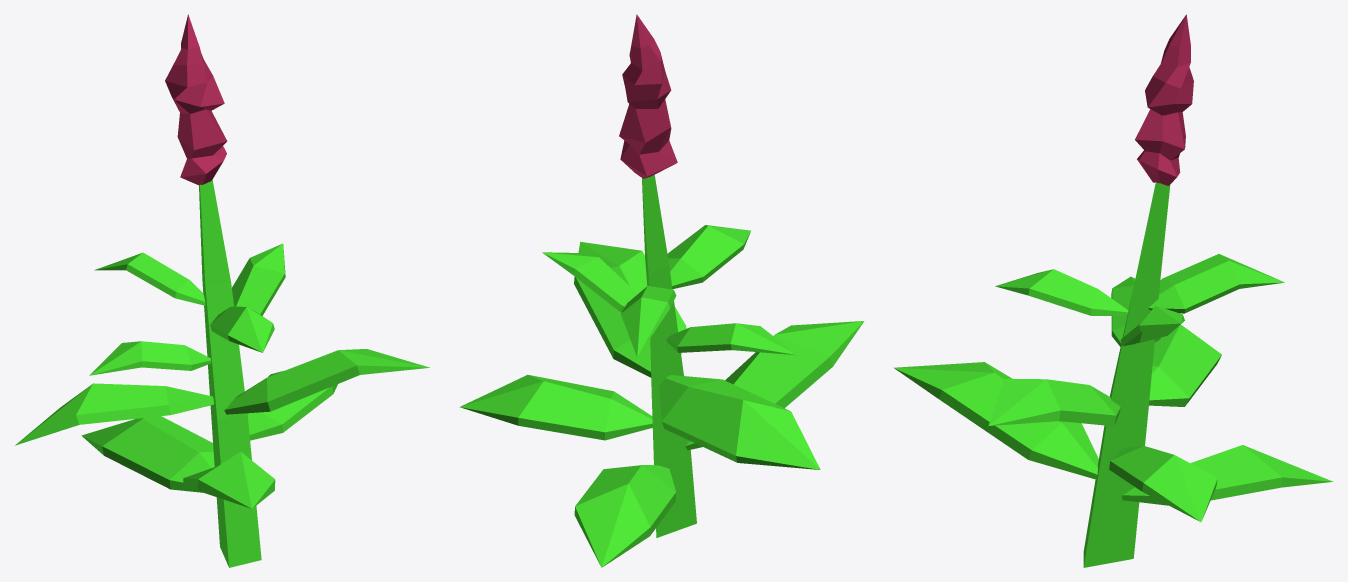
File: Flower_1.fbx
3 renders of one model, left to right at view 1: azimuth 30°, elevation 25°; view 2: azimuth 150°, elevation 25°; view 3: azimuth 270°, elevation 25°, orthographic. The views are drawn at different scales.
Parts seen in each view (by area): view 1: Flower_2; view 2: Flower_2; view 3: Flower_2.
Part boxes in pixels (x1=…): Flower_2: x1=15, y1=14, x2=429, y2=567; Flower_2: x1=459, y1=14, x2=864, y2=567; Flower_2: x1=893, y1=14, x2=1332, y2=567.
Bounding box in the file's own units: 5707 × 8406 × 6196.
